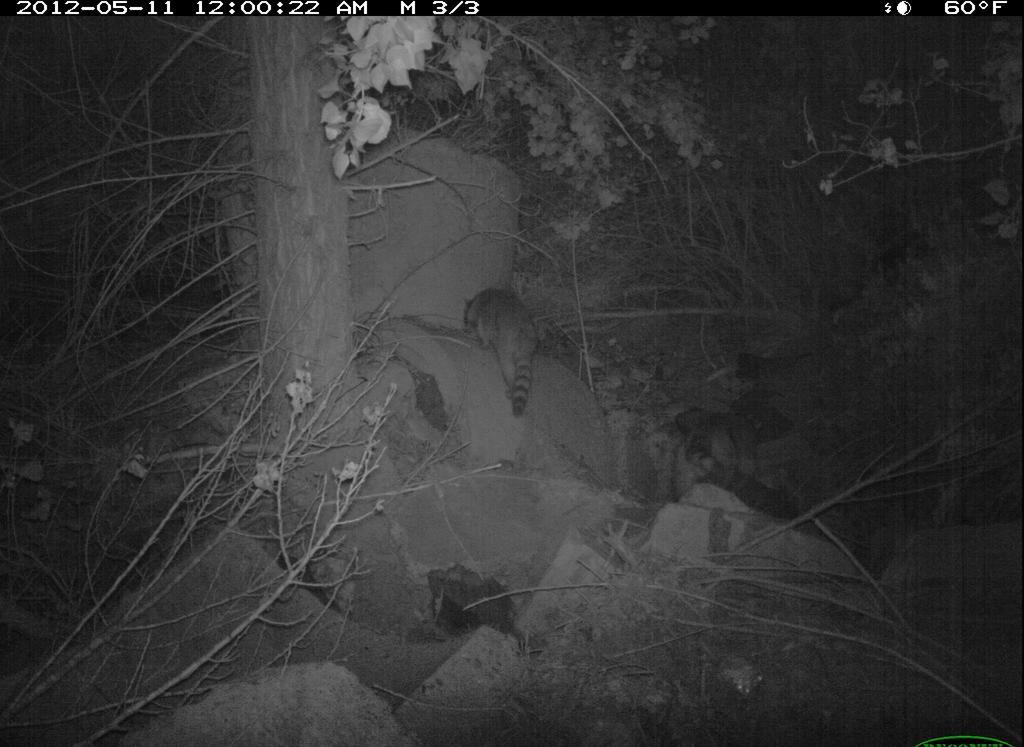raccoon: (460, 269, 553, 429)
